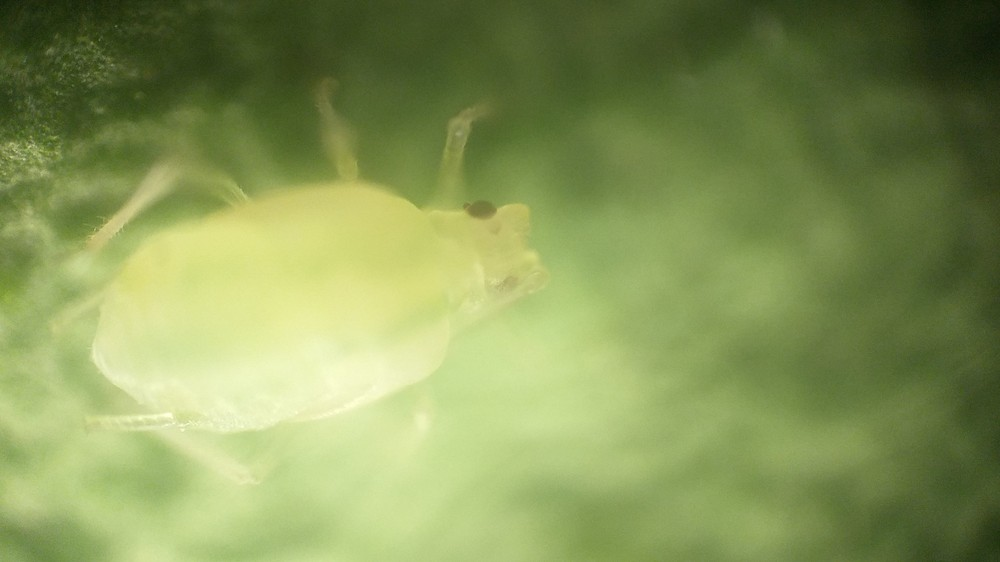Pulgon: (57, 69, 572, 515)
